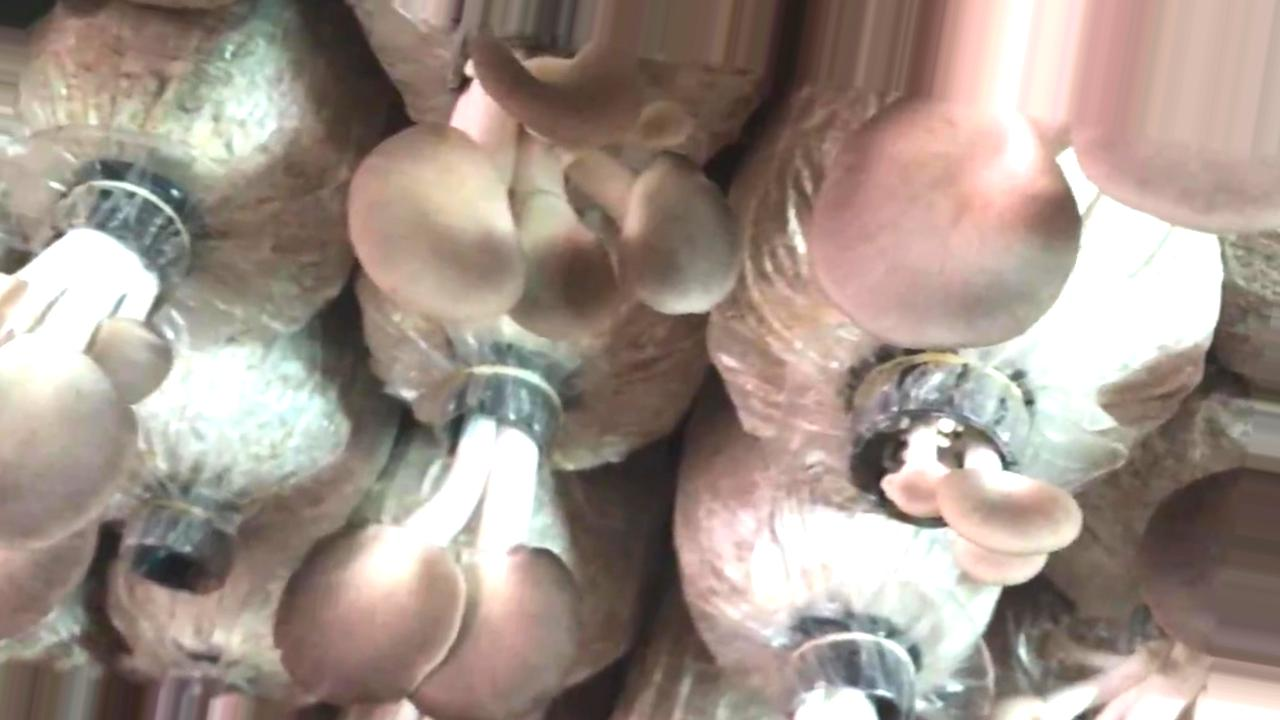nam: (814, 1, 1280, 350), (349, 2, 739, 337), (274, 370, 581, 720), (1, 182, 202, 633), (838, 364, 1081, 584), (1138, 470, 1280, 664)
